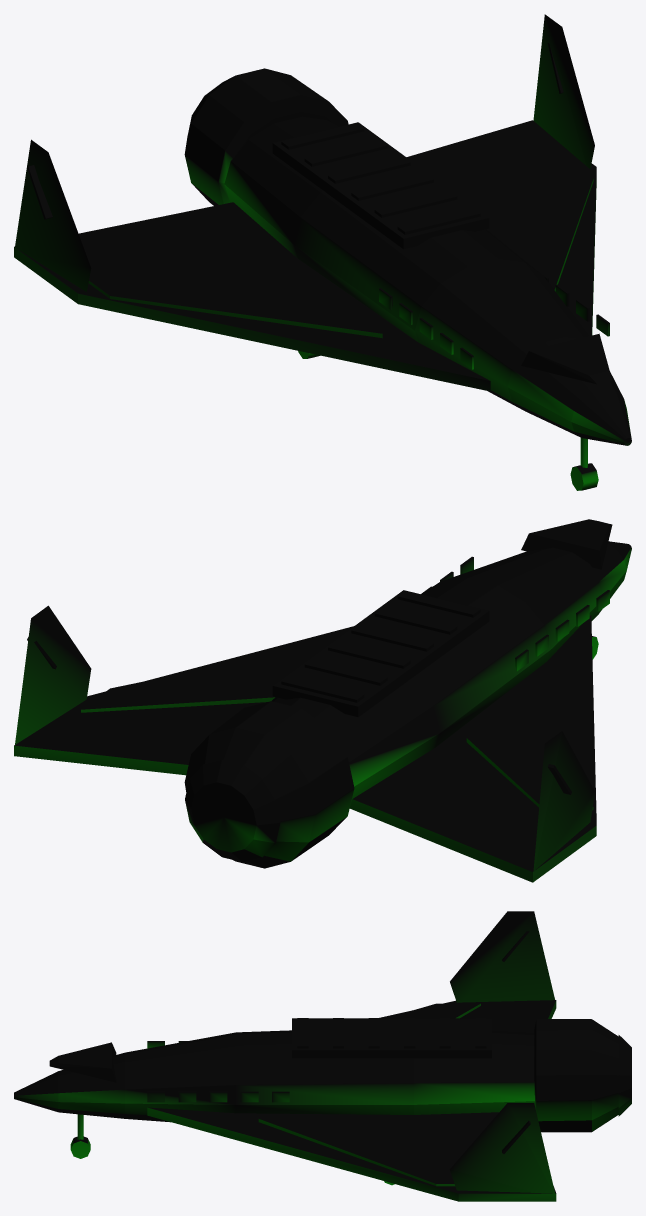
File: shuttle.glb
The picture shows the model from 3 angles, top to bottom: view 1: azimuth 30°, elevation 25°; view 2: azimuth 150°, elevation 25°; view 3: azimuth 270°, elevation 25°; orthographic projection. The views are drawn at different scales.
Visible parts, largest first — view 1: lod0; view 2: lod0; view 3: lod0.
Part boxes in pixels (x1,y1,x2,y2): lod0: [14, 14, 631, 490]; lod0: [14, 519, 631, 882]; lod0: [14, 911, 631, 1201].
Size of what is drawn, in the model's own units: 20.9 by 7.4 by 27.8.
